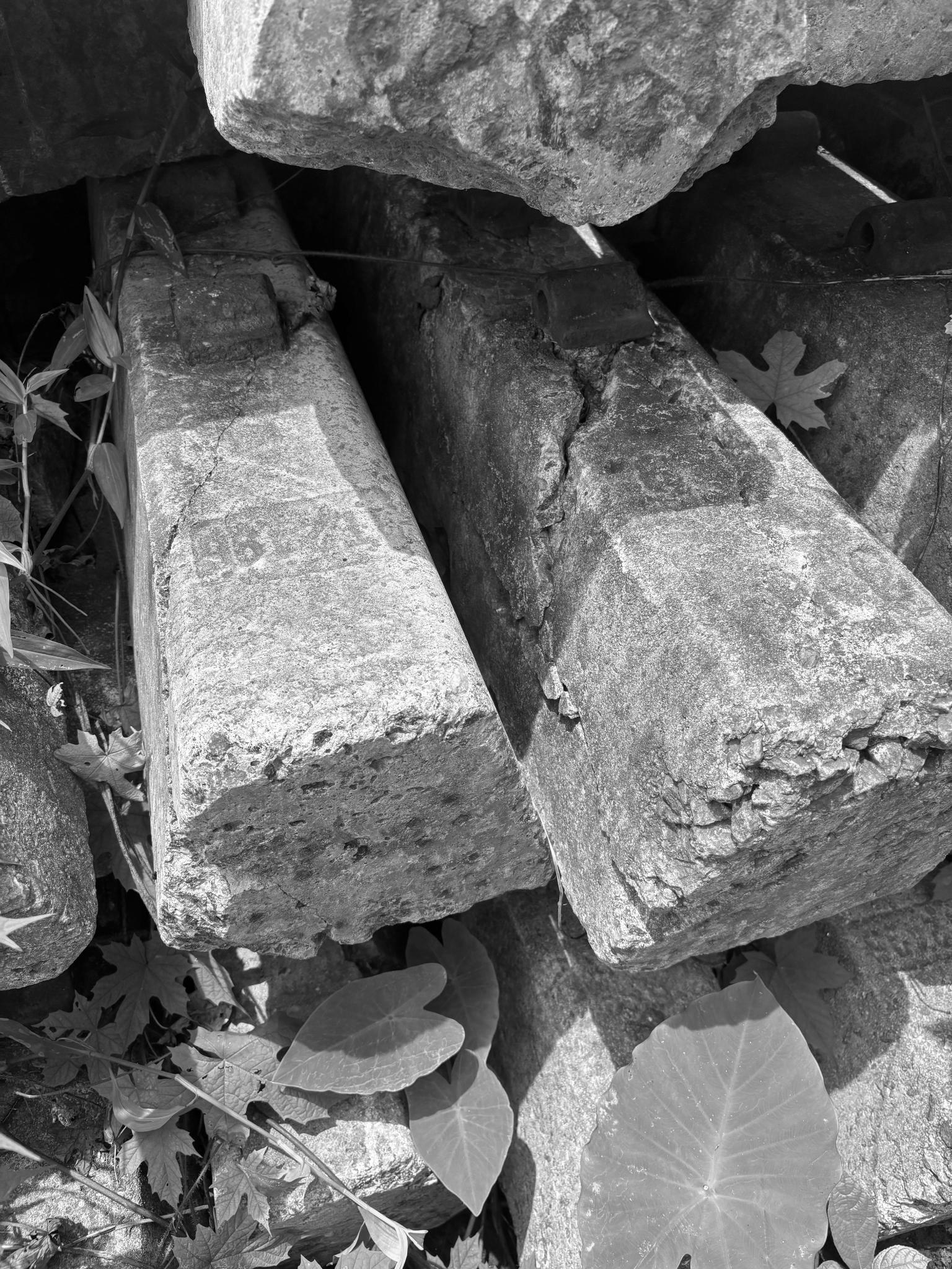cracks under rail seat: (103, 351, 354, 968), (612, 316, 903, 695), (494, 342, 634, 712), (535, 715, 689, 953), (389, 183, 521, 391)
